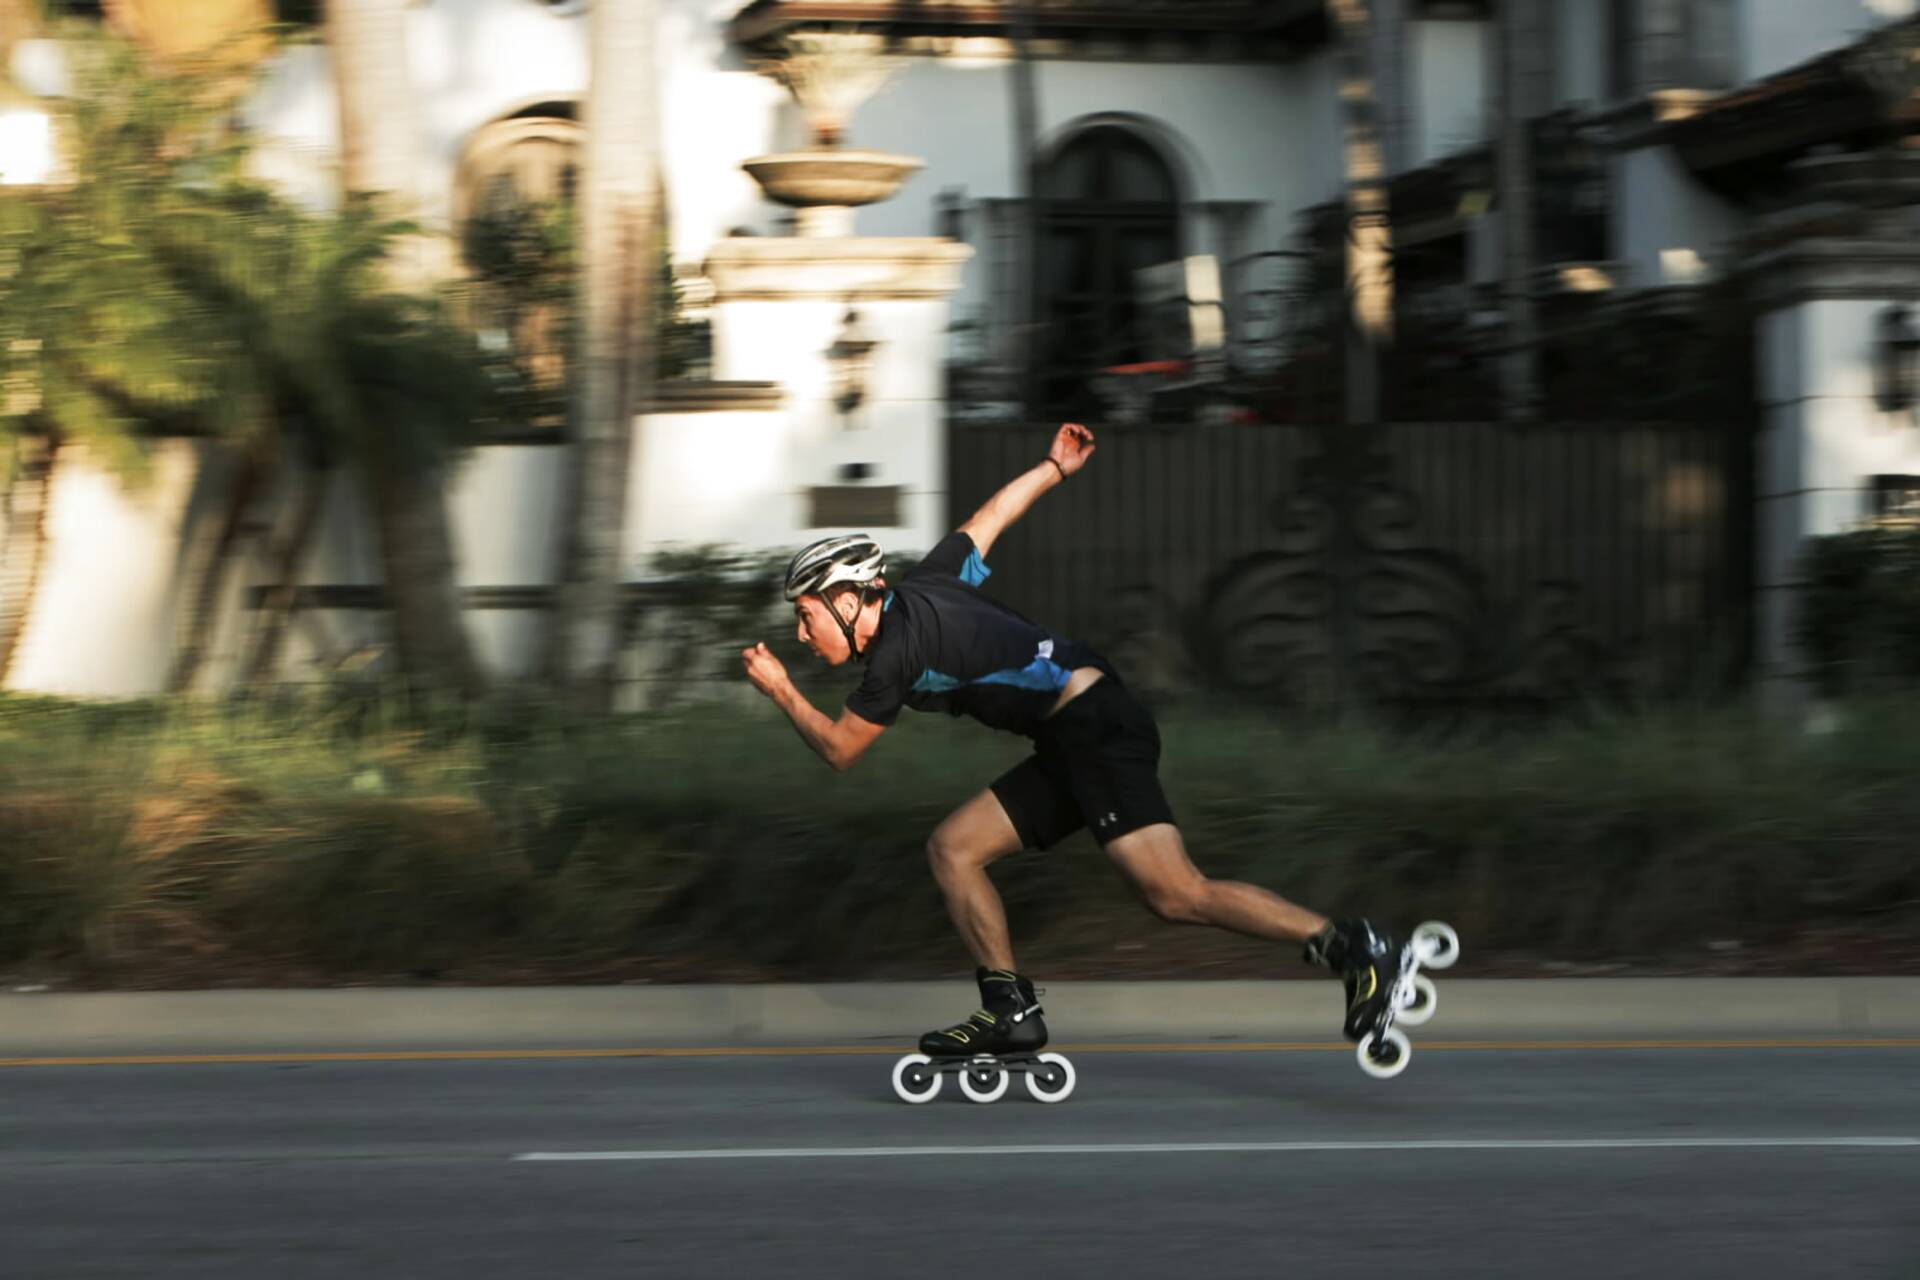roller_blade: (1304, 913, 1463, 1086), (899, 970, 1074, 1103)
